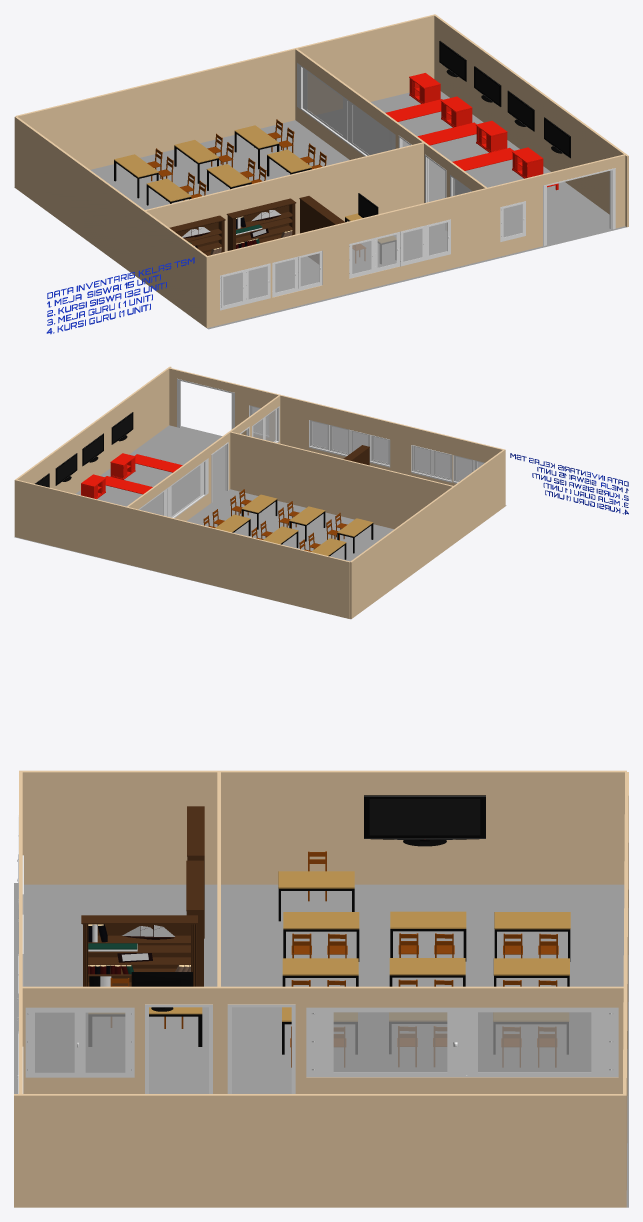
The model's file is r_tsmx.glb.
3 renders of one model, top to bottom at view 1: azimuth 30°, elevation 25°; view 2: azimuth 150°, elevation 25°; view 3: azimuth 270°, elevation 25°, orthographic. The views are drawn at different scales.
Visible parts, largest first — view 1: Asset3DLoader.sceneRoot; view 2: Asset3DLoader.sceneRoot; view 3: Asset3DLoader.sceneRoot.
Boxes of the visible parts, x1,y1,x2,y2 form: Asset3DLoader.sceneRoot: (14,14,628,334); Asset3DLoader.sceneRoot: (14,366,628,619); Asset3DLoader.sceneRoot: (14,770,628,1207).
Bounding box in the file's own units: 2079 × 246 × 1211.
Materials: 28 (1 with a texture image).
